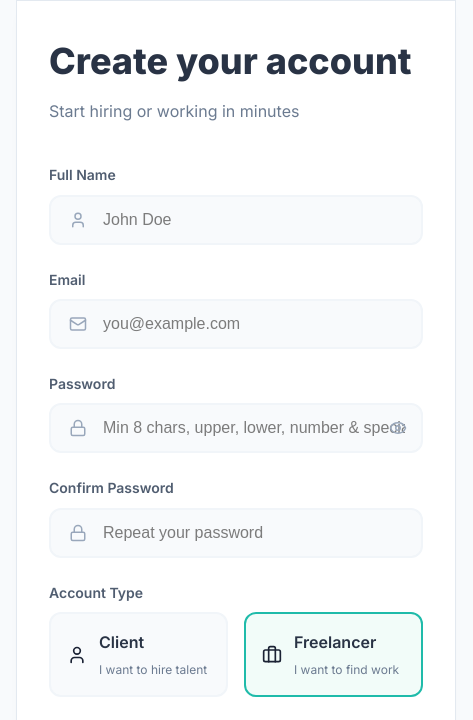
Test case: Register Component › shows error if passwords do not match
Type "Test" into the field labelled "Full Name" at coordinates (236, 220), box [49, 195, 423, 245]
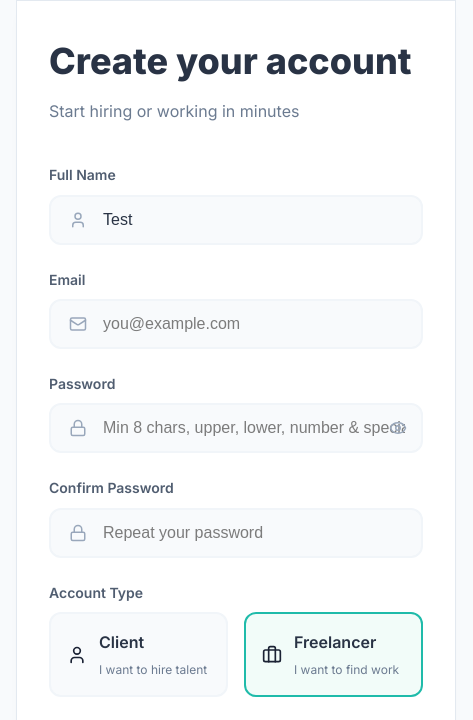
Type "test@test.com" into the field labelled "Email" at coordinates (236, 324), box [49, 299, 423, 349]
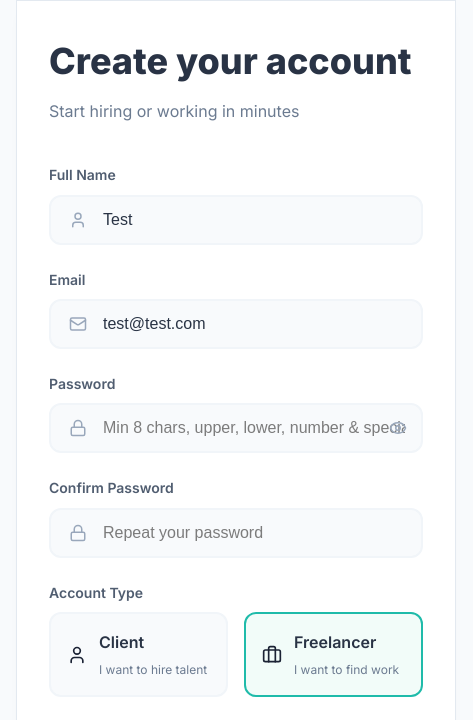
Type "Password123!" into the password field labelled "Password" at coordinates (236, 428), box [49, 403, 423, 453]
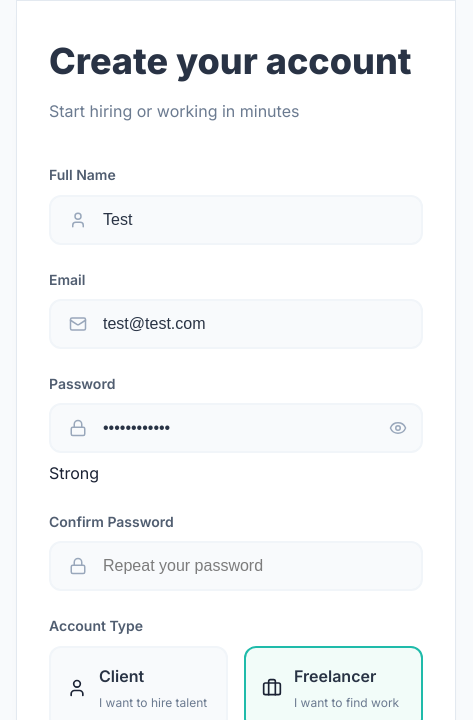
Type "Different1!" into the password field labelled "Confirm Password" at coordinates (236, 566), box [49, 541, 423, 591]
(page scrolled)
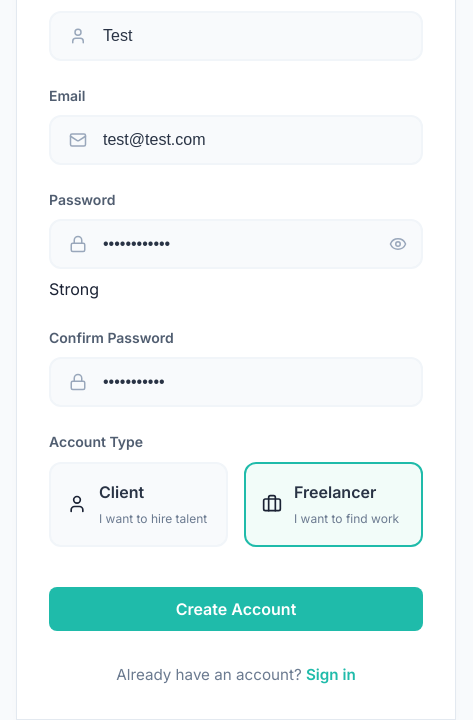
Click the button "Create Account" at coordinates (236, 608), box [49, 586, 423, 630]
(page scrolled)
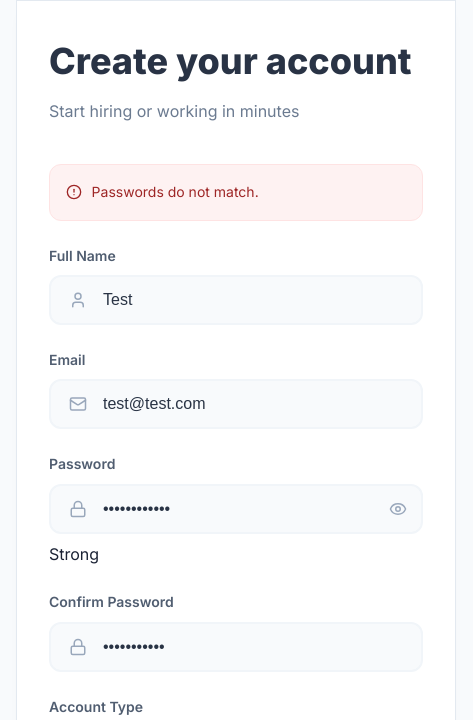
Expected: the text "Passwords do not match." is shown, [92, 181, 259, 204]
